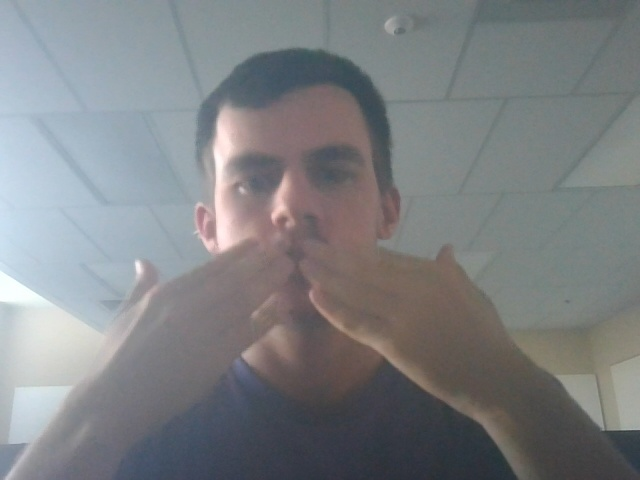thanks: (103, 226, 542, 404)
